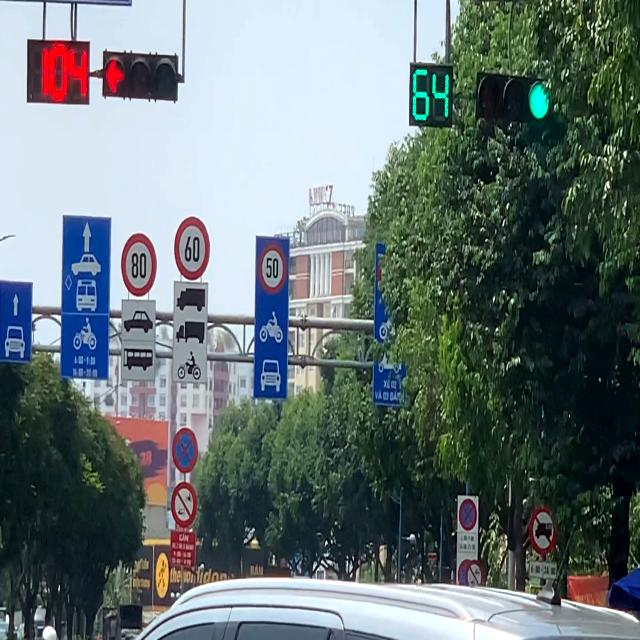P.106b: (528, 506, 557, 555)
P.127: (173, 216, 210, 281), (121, 232, 157, 298), (258, 243, 287, 294)
P.130: (172, 428, 198, 473), (459, 498, 477, 531)
